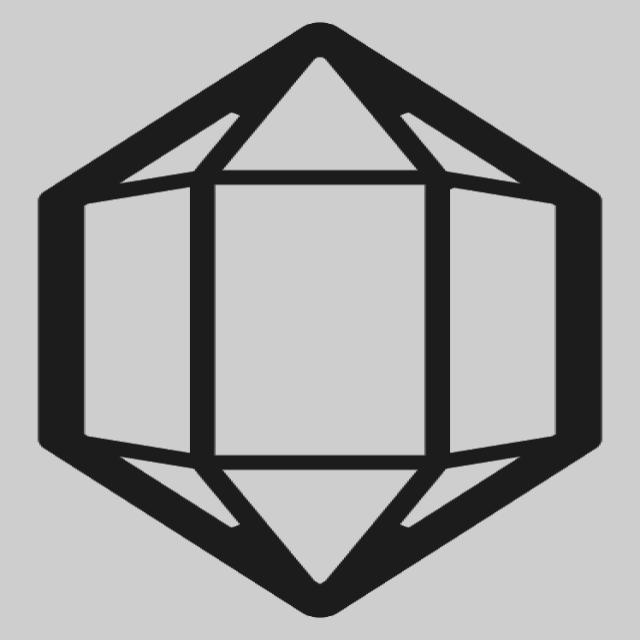crystal: (13, 11, 626, 635)
